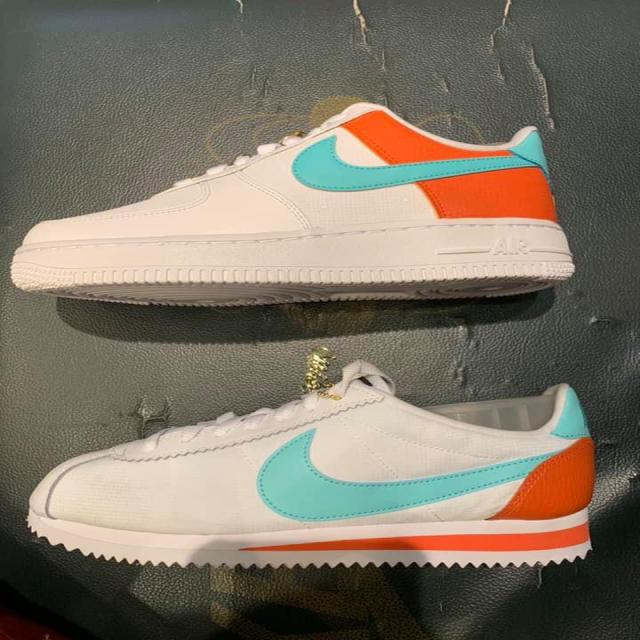shoes: (7, 350, 624, 584), (4, 89, 591, 318)
